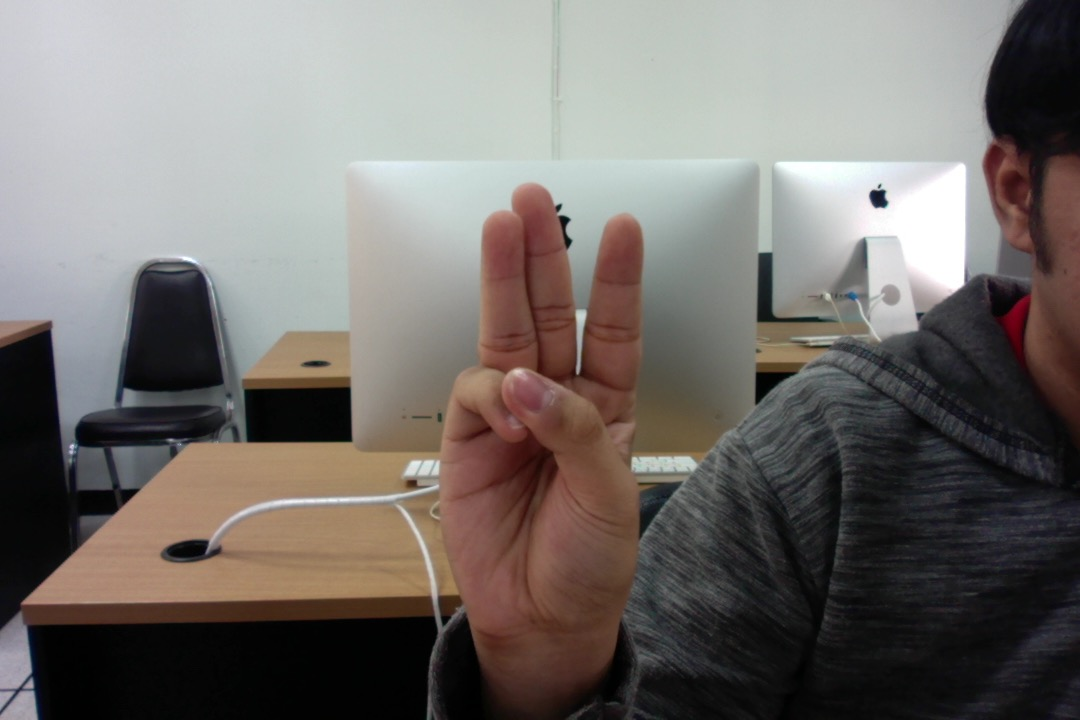wor: (437, 176, 666, 700)
